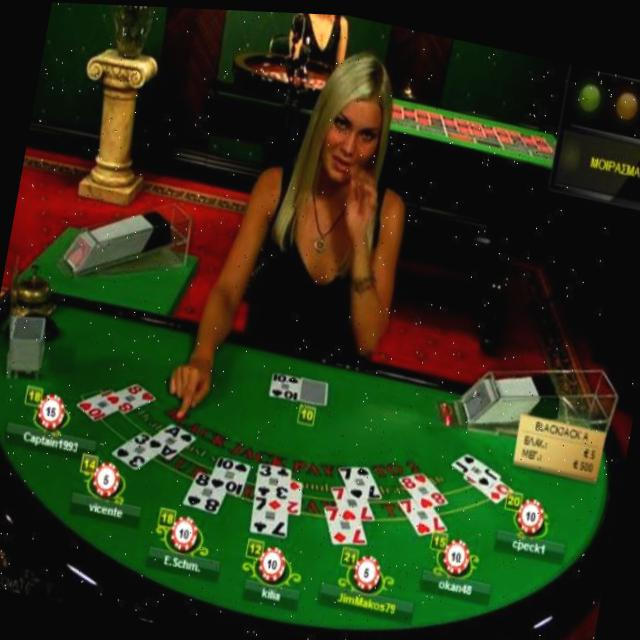Card-10: (208, 453, 250, 493), (76, 388, 117, 420), (268, 367, 300, 397)
Card-2: (268, 476, 303, 513)
Card-3: (111, 429, 164, 469), (254, 459, 291, 495)
Card-7: (397, 494, 447, 531), (323, 501, 367, 541), (249, 492, 288, 534), (330, 483, 374, 515), (338, 463, 380, 494)
Card-8: (182, 470, 226, 512), (399, 467, 447, 503), (107, 381, 156, 413)
Card-A: (153, 421, 196, 458)
Card-J: (451, 448, 500, 483)
Card-Q: (463, 470, 513, 498)
